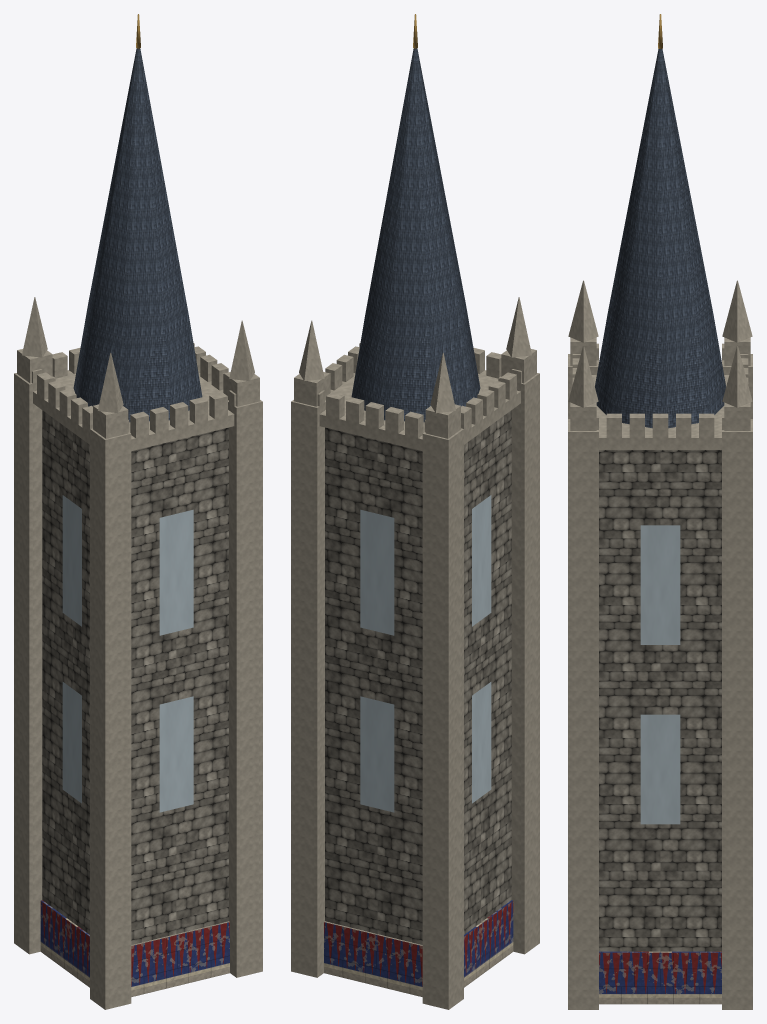
The model's file is Palace_Imperial_Spire_1.gltf.
3 views of the same model, side by side, from view 1: azimuth 30°, elevation 25°; view 2: azimuth 150°, elevation 25°; view 3: azimuth 270°, elevation 25° (orthographic).
Visible parts, largest first — view 1: Palace_Imperial_Spire_1; view 2: Palace_Imperial_Spire_1; view 3: Palace_Imperial_Spire_1.
Boxes of the visible parts, left/top/right/bottom form: Palace_Imperial_Spire_1: left=14, top=14, right=262, bottom=1009; Palace_Imperial_Spire_1: left=291, top=14, right=539, bottom=1009; Palace_Imperial_Spire_1: left=568, top=14, right=752, bottom=1009.
Bounding box in the file's own units: 8.4 × 48 × 8.4.
Materials: 6 (6 with a texture image).
